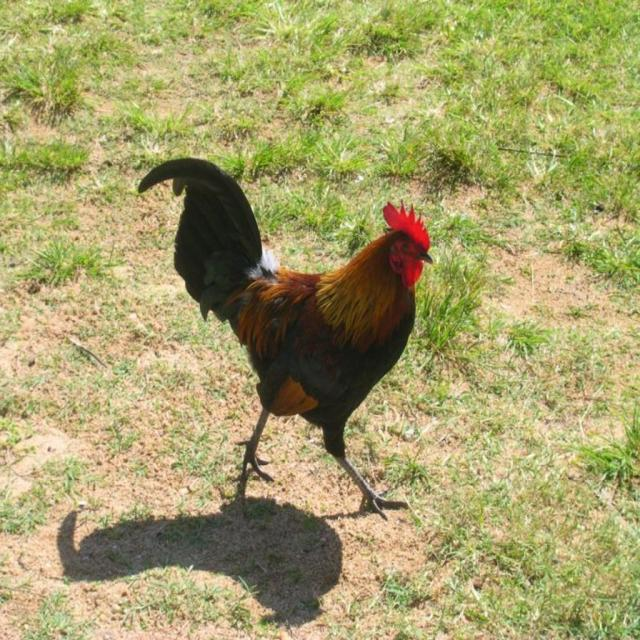Chicken: (138, 158, 433, 520)
